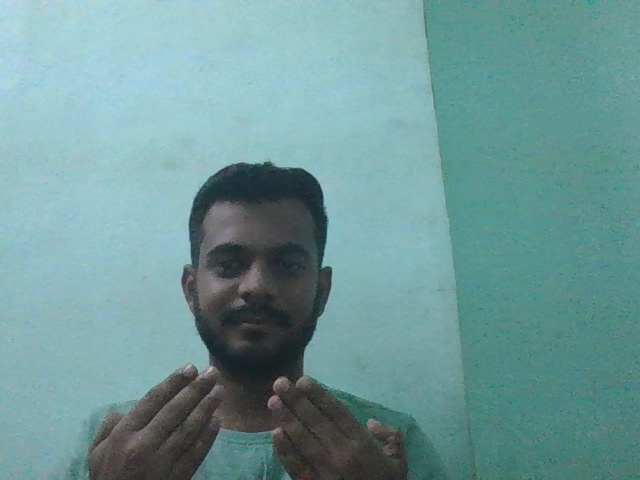thankyou: (81, 360, 415, 480)
